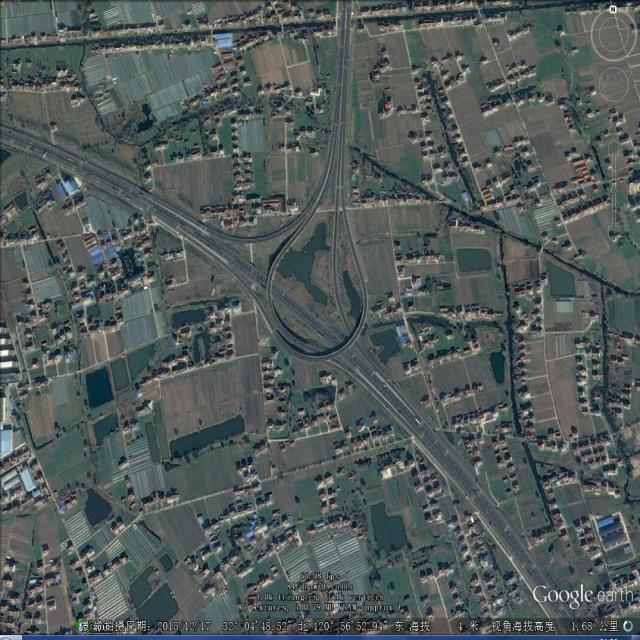overpass: (195, 127, 390, 401)
